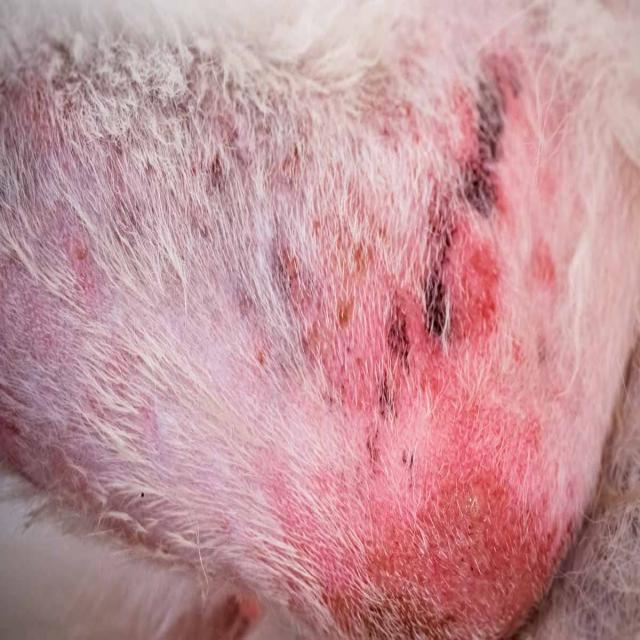allergic dermatitis: (245, 178, 560, 636), (1, 138, 283, 546), (426, 57, 577, 322)
